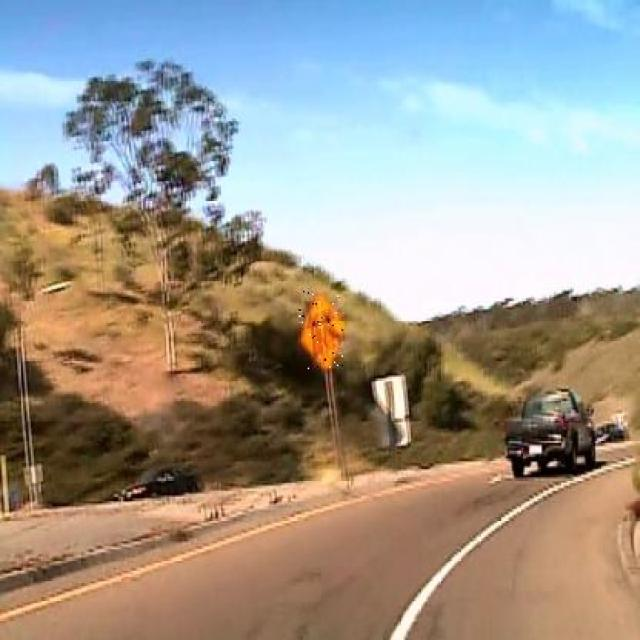addedLane: (298, 289, 345, 371)
